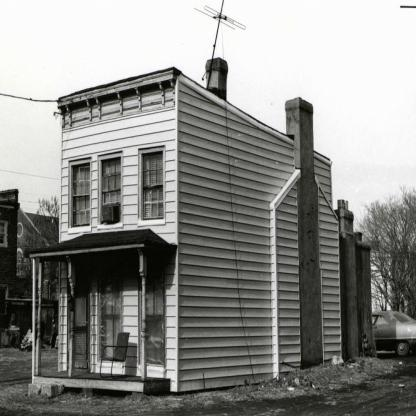door: (70, 294, 88, 364)
